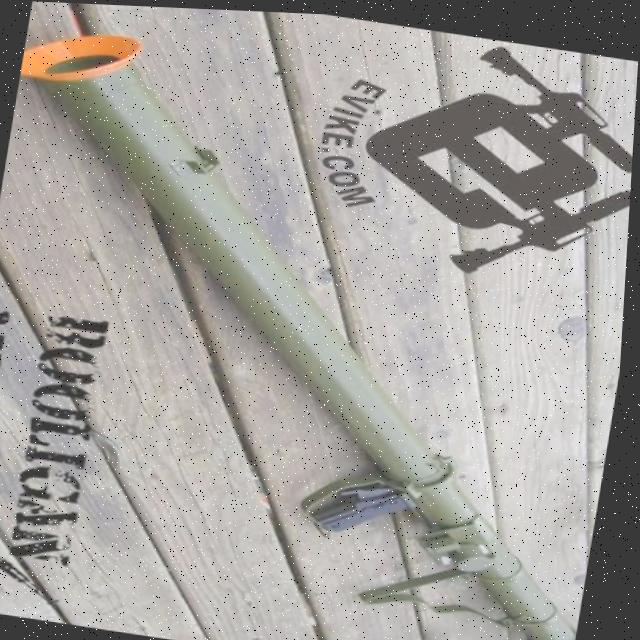rocket: (0, 10, 640, 640)
